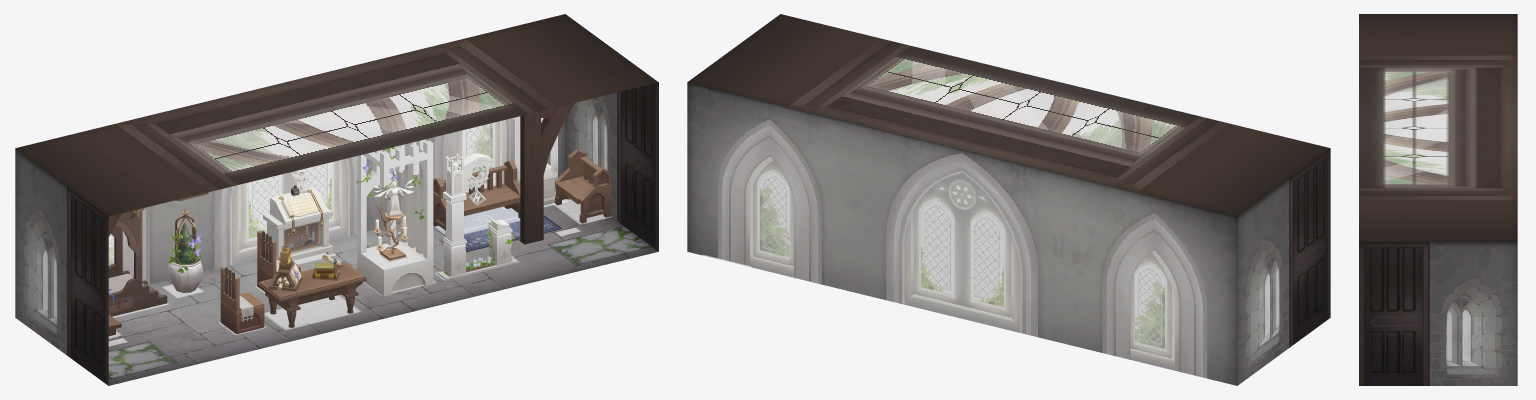
Rendered from LAbbey.glb.
3 renders of one model, left to right at view 1: azimuth 30°, elevation 25°; view 2: azimuth 150°, elevation 25°; view 3: azimuth 270°, elevation 25°, orthographic. The views are drawn at different scales.
Visible parts, largest first — view 1: ROOM_room, ROOM_floor, furni_LAbbey_statue_01, furni_LAbbey_door_01, furni_LAbbey_desk_01, furni_LAbbey_woodPillar_01.001, furni_LAbbey_skewBox_01, furni_LAbbey_bed_01, furni_LAbbey_shortBench_01, furni_LAbbey_longBench_01, furni_LAbbey_chair_01, furni_LAbbey_carpet_01 (+8 smaller); view 2: ROOM_room, ROOM_LDoor; view 3: ROOM_room, ROOM_RDoor.
Boxes of the visible parts, x1,y1,x2,y2 form: ROOM_room: (15,14,658,385); ROOM_floor: (108,198,658,385); furni_LAbbey_statue_01: (356,139,433,296); furni_LAbbey_door_01: (437,153,517,280); furni_LAbbey_desk_01: (257,246,366,327); furni_LAbbey_woodPillar_01.001: (520,102,575,244); furni_LAbbey_skewBox_01: (263,169,332,260); furni_LAbbey_bed_01: (108,209,167,316); furni_LAbbey_shortBench_01: (555,149,610,223); furni_LAbbey_longBench_01: (433,160,520,234); furni_LAbbey_chair_01: (220,267,264,334); furni_LAbbey_carpet_01: (433,206,561,251); ROOM_room: (687,14,1330,385); ROOM_LDoor: (1298,251,1316,341); ROOM_room: (1359,14,1517,385); ROOM_RDoor: (1382,320,1414,385).
Size of the model in its own units: 7.52 by 2.2 by 2.26.
Materials: 7 (7 with a texture image).
